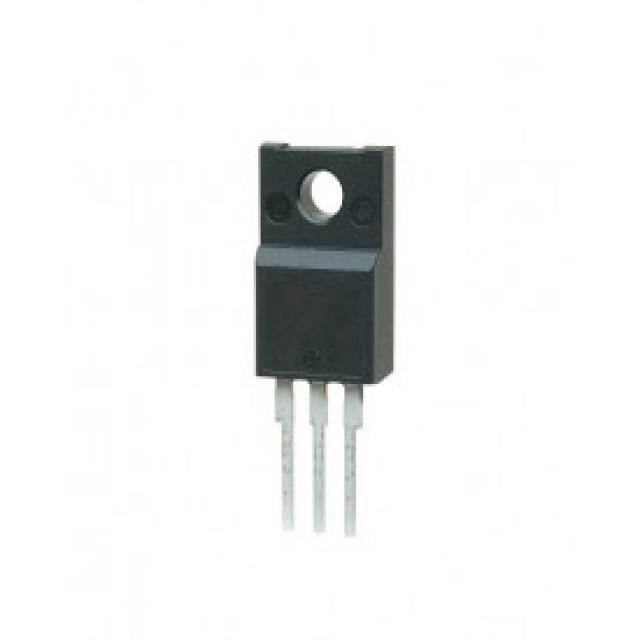Transistor: (250, 142, 396, 540)
